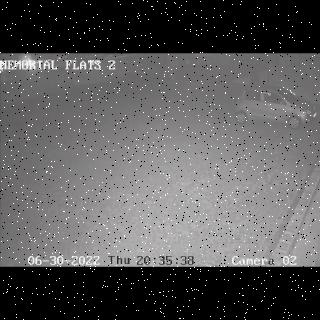car: (232, 87, 316, 130)
